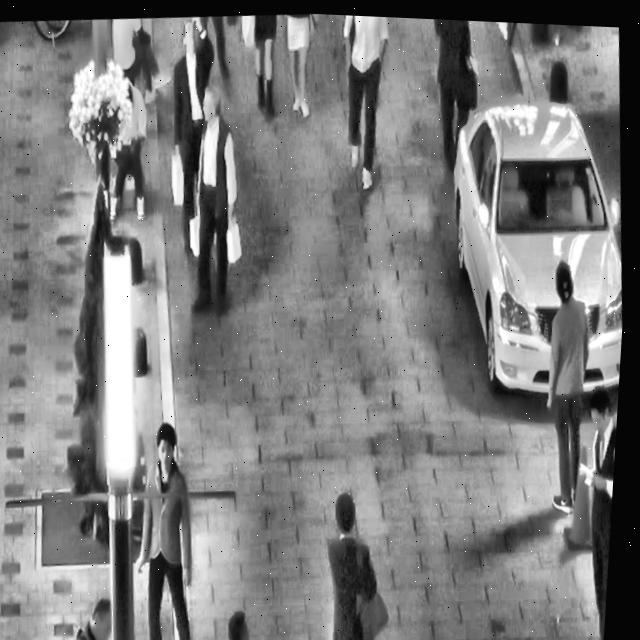light_vehicle: (432, 68, 638, 409)
